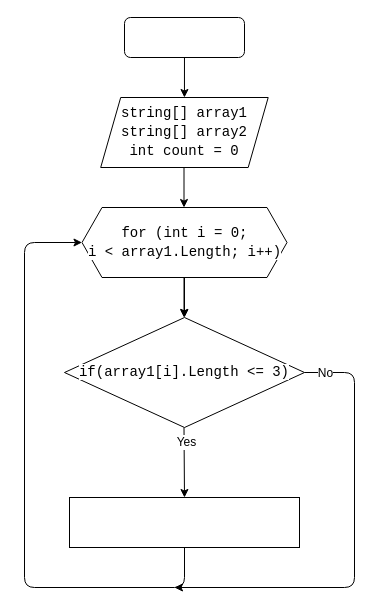
Image size: 380x613. Some labels were removed from this diagram. The shapes that lost their labels are listed below. From the top down, each one's centre as x and y in pixels, then its label:
[184,37]: GetArray
[184,522]: array2[count] = array1[i]; count++
